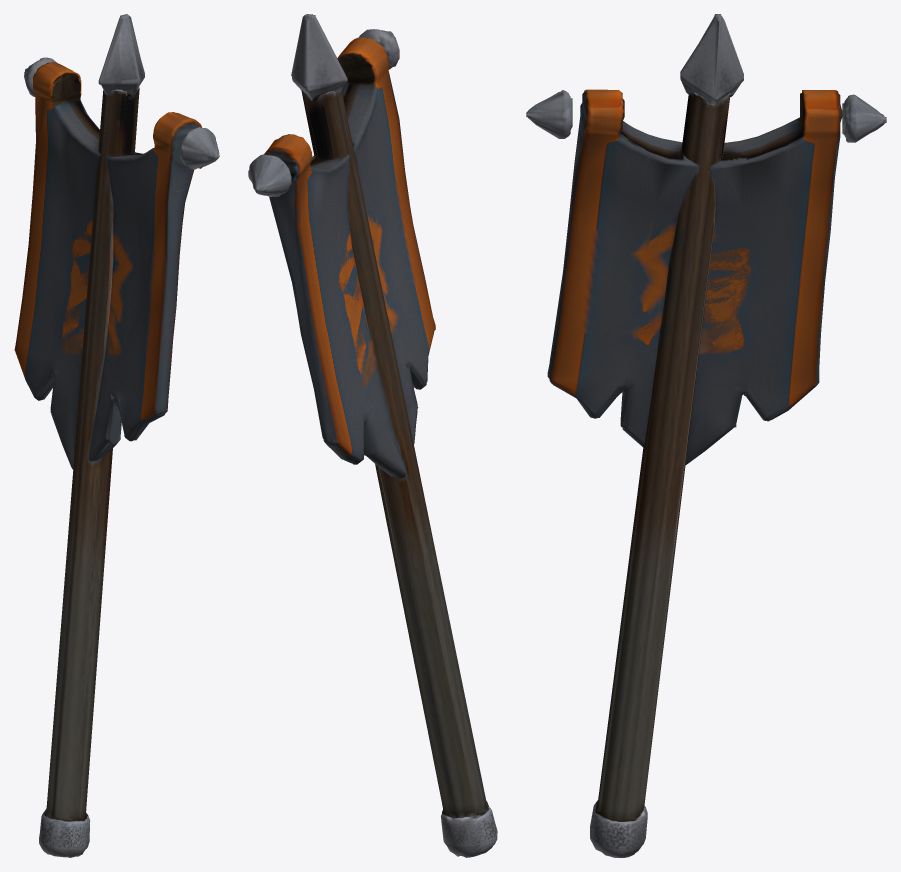
The model's file is banner.glb.
3 views of the same model, side by side, from view 1: azimuth 30°, elevation 25°; view 2: azimuth 150°, elevation 25°; view 3: azimuth 270°, elevation 25° (orthographic). The views are drawn at different scales.
Visible parts, largest first — view 1: tripo_node_0a523ca3-be5d-47be-b41f-57e3859d4ae6; view 2: tripo_node_0a523ca3-be5d-47be-b41f-57e3859d4ae6; view 3: tripo_node_0a523ca3-be5d-47be-b41f-57e3859d4ae6.
Boxes of the visible parts, <box> form: tripo_node_0a523ca3-be5d-47be-b41f-57e3859d4ae6: <box>14,14,219,857</box>; tripo_node_0a523ca3-be5d-47be-b41f-57e3859d4ae6: <box>248,14,497,857</box>; tripo_node_0a523ca3-be5d-47be-b41f-57e3859d4ae6: <box>526,14,886,857</box>.
Bounding box in the file's own units: 0.2012 × 0.998 × 0.3652.
1 material, 1 textured.
